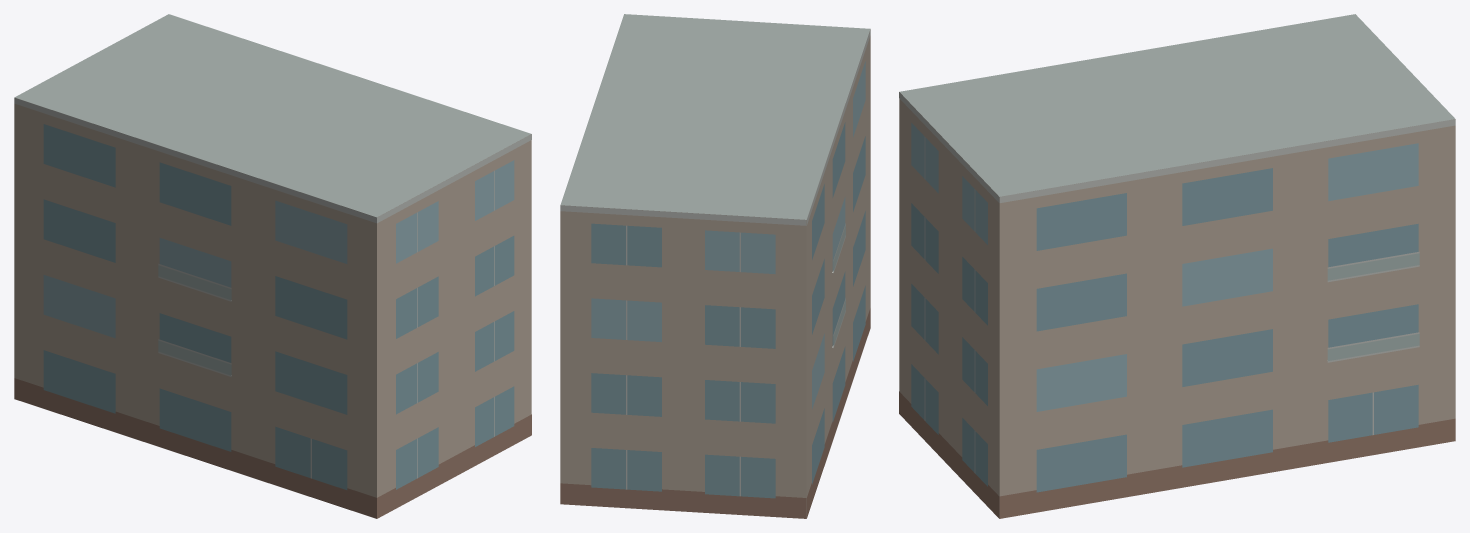
File: residential-59c30ab4-c537-496f-9cda-f0db1a793102.glb
3 views of the same model, side by side, from view 1: azimuth 30°, elevation 25°; view 2: azimuth 150°, elevation 25°; view 3: azimuth 270°, elevation 25° (orthographic). The views are drawn at different scales.
Visible parts, largest first — view 1: residential-59c30ab4-c537-496f-9cda-f0db1a793102.tmp; view 2: residential-59c30ab4-c537-496f-9cda-f0db1a793102.tmp; view 3: residential-59c30ab4-c537-496f-9cda-f0db1a793102.tmp.
Boxes of the visible parts, x1,y1,x2,y2 form: residential-59c30ab4-c537-496f-9cda-f0db1a793102.tmp: [14, 14, 531, 518]; residential-59c30ab4-c537-496f-9cda-f0db1a793102.tmp: [560, 14, 870, 518]; residential-59c30ab4-c537-496f-9cda-f0db1a793102.tmp: [899, 14, 1455, 518].
Size of the model in its own units: 14.87 by 12.2 by 19.11.
